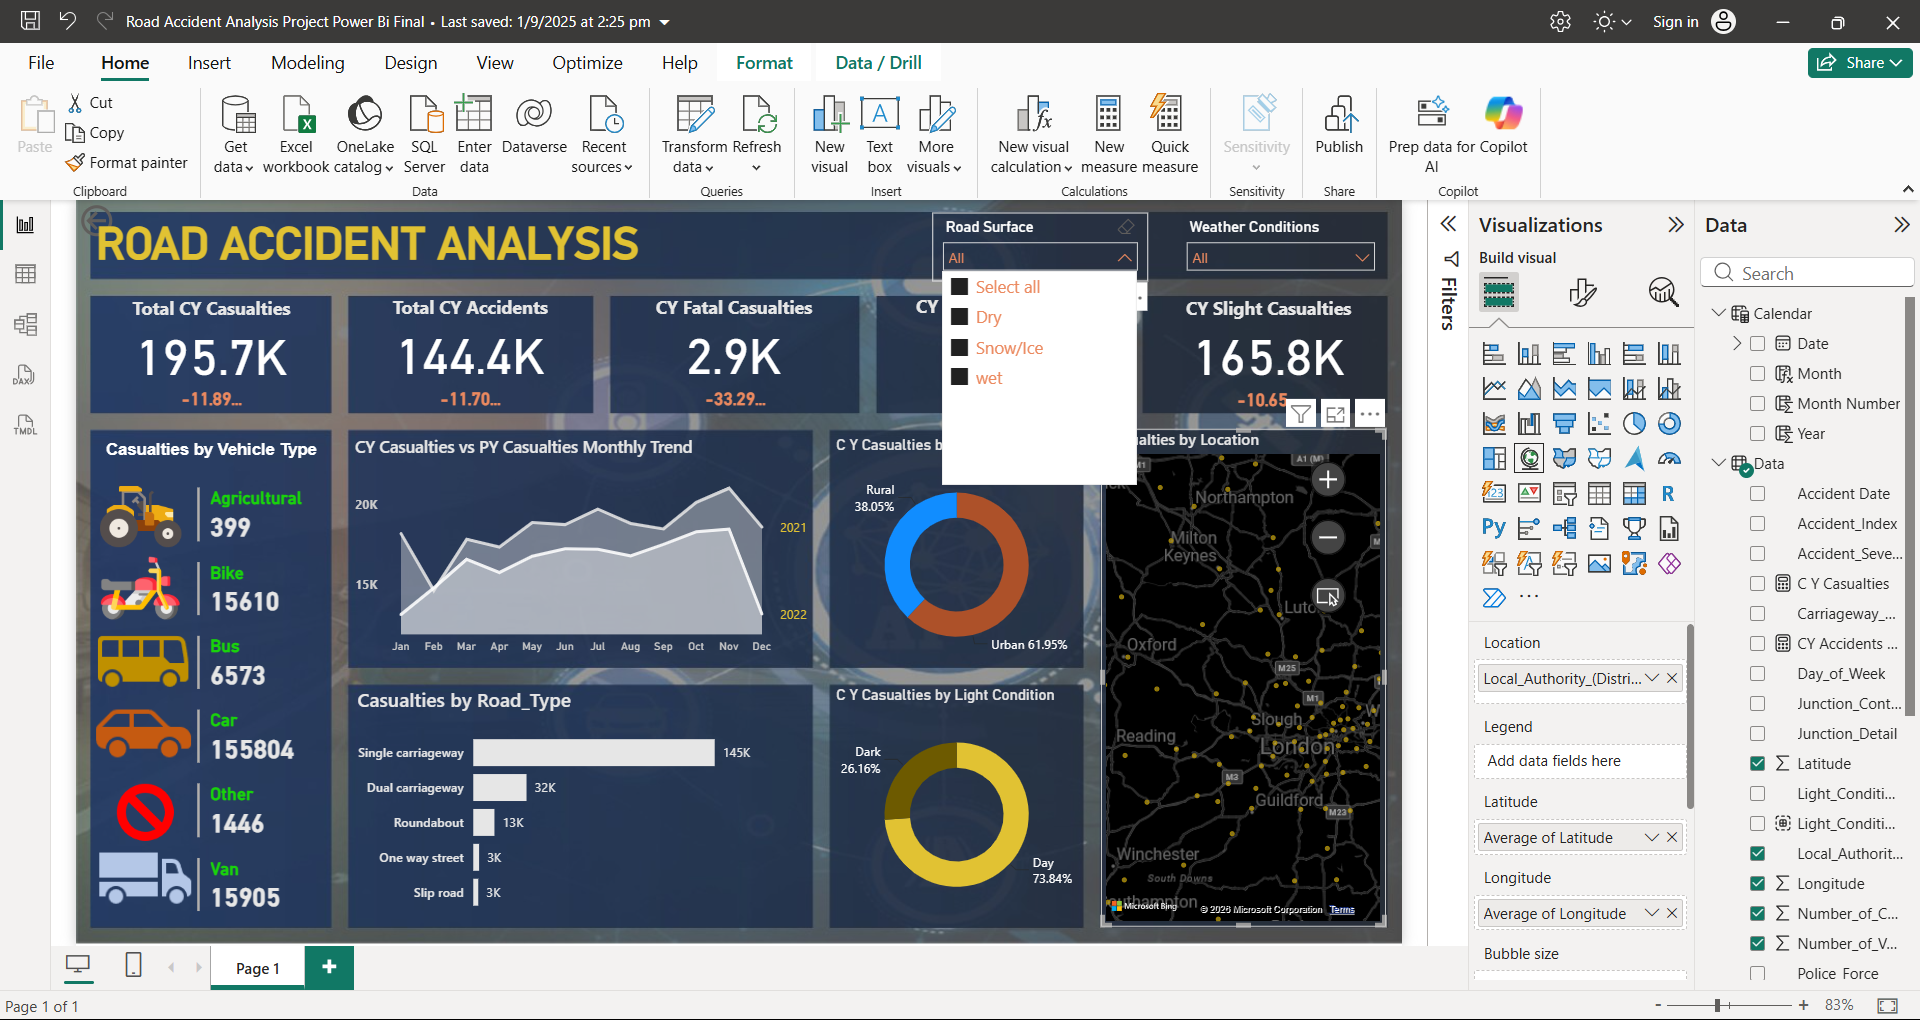

This screenshot's page, from the dashboard's own definition file:
{"tool":"powerbi","page":{"name":"Page 1","canvas":[1280,720],"ordinal":0},"visuals":[{"type":"card","title":"Total CY Casualties","fields":{"Values":["Data.C Y Casualties"]},"box":[14,93,232.6,84.9],"z":0},{"type":"card","fields":{"Values":["Data.YoY Casualties"]},"box":[95.3,177.9,70.9,25.6],"z":1000},{"type":"actionButton","box":[0,0,100,40],"z":2000},{"type":"card","title":"Total CY Accidents","fields":{"Values":["Data.CY Accidents Count"]},"box":[264,91.9,232.6,84.9],"z":3000},{"type":"card","fields":{"Values":["Data.YoY Accidents"]},"box":[345.3,176.7,70.9,25.6],"z":4000},{"type":"card","title":" CY Fatal Casualties","fields":{"Values":["Data.C Y Casualties"]},"box":[518.8,91.9,232.6,84.9],"z":5000},{"type":"card","fields":{"Values":["Data.YoY Casualties"]},"box":[600.2,176.7,70.9,25.6],"z":6000},{"type":"card","title":" CY Serious Casualties","fields":{"Values":["Data.C Y Casualties"]},"box":[780.8,90.6,231.9,85.1],"z":7000},{"type":"card","fields":{"Values":["Data.YoY Casualties"]},"box":[861.8,175.6,71.4,26.1],"z":8000},{"type":"card","title":"CY Slight Casualties","fields":{"Values":["Data.C Y Casualties"]},"box":[1034.7,93.3,231.9,85.1],"z":9000},{"type":"card","fields":{"Values":["Data.YoY Casualties"]},"box":[1114.2,178,70.9,25.6],"z":10000},{"type":"textbox","box":[14,0,600,77.9],"z":11000},{"type":"multiRowCard","fields":{"Values":["Data.Vehicle_Type (groups)","Data.C Y Casualties"]},"box":[112.8,273.3,133.7,446.5],"z":12000},{"type":"image","box":[5.8,258.1,112.8,94.2],"z":13000},{"type":"image","box":[0,331.4,124.4,86],"z":14000},{"type":"image","box":[5.8,391.9,117.4,105.8],"z":15000},{"type":"image","box":[0,459.3,130.2,110.5],"z":16000},{"type":"image","box":[19.8,551.2,95.3,79.1],"z":17000},{"type":"image","box":[7,601.2,119.8,107],"z":18000},{"type":"textbox","box":[14,226.7,232.6,31.4],"z":19000},{"type":"areaChart","title":"CY Casualties  vs PY Casualties Monthly Trend","fields":{"Category":["Calendar.Month"],"Y":["Sum(Data.Number_of_Casualties)"],"Series":["Calendar.Date.Variation.Date Hierarchy.Year"]},"box":[264,226.7,446.5,218.6],"z":20000},{"type":"donutChart","title":"C Y Casualties by Light Condition","fields":{"Y":["Data.C Y Casualties"],"Category":["Data.Light_Conditions (groups)"]},"box":[729.1,469.8,243,231.4],"z":21000},{"type":"donutChart","title":"C Y Casualties by Urban/Rural","fields":{"Category":["Data.Urban_or_Rural_Area"],"Y":["Data.C Y Casualties"]},"box":[729.1,227.9,243,231.4],"z":22000},{"type":"barChart","title":"Casualties by Road_Type","fields":{"Category":["Data.Road_Type"],"Y":["Data.C Y Casualties"]},"box":[266.3,469.8,444.2,231.4],"z":23000},{"type":"map","title":"Casualties by Location","fields":{"Y":["Data.Latitude"],"X":["Data.Longitude"],"Category":["Data.Local_Authority_(District)"]},"box":[989.5,220.9,274.4,480.2],"z":24000},{"type":"slicer","fields":{"Values":["Data.Weather_Conditions (groups)"]},"box":[1061.6,11.6,202.3,66.3],"z":25000},{"type":"slicer","fields":{"Values":["Data.Road_Surface_Conditions (groups)"]},"box":[826.7,11.6,208.1,66.3],"z":26000}]}

Visuals, with their boxes on the page's 1280x720 design canvas (x1, y1, x2, y2). These are canvas units, not pixel positions in the 1920x1020 screenshot, which may show the page scaled, cropped or inside an application window:
"Total CY Casualties" card: detection(14, 93, 247, 178)
card - Data.YoY Casualties: detection(95, 178, 166, 204)
actionButton: detection(0, 0, 100, 40)
"Total CY Accidents" card: detection(264, 92, 497, 177)
card - Data.YoY Accidents: detection(345, 177, 416, 202)
" CY Fatal Casualties" card: detection(519, 92, 751, 177)
card - Data.YoY Casualties: detection(600, 177, 671, 202)
" CY Serious Casualties" card: detection(781, 91, 1013, 176)
card - Data.YoY Casualties: detection(862, 176, 933, 202)
"CY Slight Casualties" card: detection(1035, 93, 1267, 178)
card - Data.YoY Casualties: detection(1114, 178, 1185, 204)
textbox: detection(14, 0, 614, 78)
multiRowCard - Data.Vehicle_Type (groups) x Data.C Y Casualties: detection(113, 273, 246, 720)
image: detection(6, 258, 119, 352)
image: detection(0, 331, 124, 417)
image: detection(6, 392, 123, 498)
image: detection(0, 459, 130, 570)
image: detection(20, 551, 115, 630)
image: detection(7, 601, 127, 708)
textbox: detection(14, 227, 247, 258)
"CY Casualties  vs PY Casualties Monthly Trend" areaChart: detection(264, 227, 710, 445)
"C Y Casualties by Light Condition" donutChart: detection(729, 470, 972, 701)
"C Y Casualties by Urban/Rural" donutChart: detection(729, 228, 972, 459)
"Casualties by Road_Type" barChart: detection(266, 470, 710, 701)
"Casualties by Location" map: detection(990, 221, 1264, 701)
slicer - Data.Weather_Conditions (groups): detection(1062, 12, 1264, 78)
slicer - Data.Road_Surface_Conditions (groups): detection(827, 12, 1035, 78)
